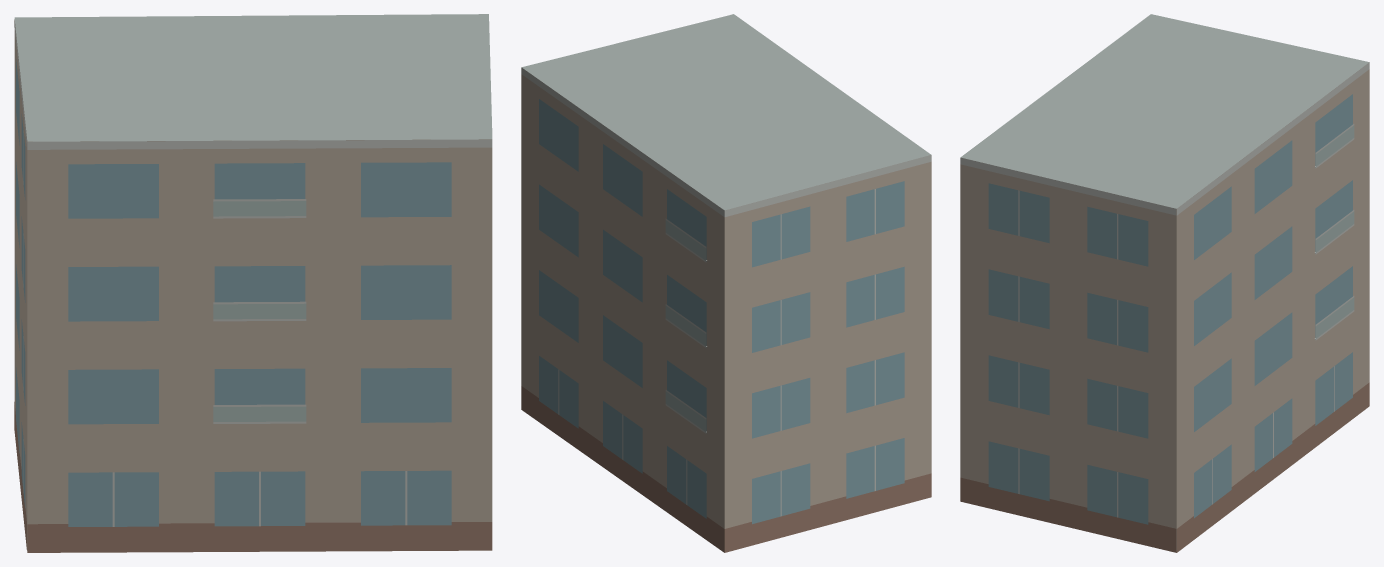
The model's file is survey-upis-32884030.glb.
3 views of the same model, side by side, from view 1: azimuth 30°, elevation 25°; view 2: azimuth 150°, elevation 25°; view 3: azimuth 270°, elevation 25° (orthographic). The views are drawn at different scales.
Parts seen in each view (by area): view 1: survey-upis-32884030.tmp; view 2: survey-upis-32884030.tmp; view 3: survey-upis-32884030.tmp.
Boxes of the visible parts, x1,y1,x2,y2 form: survey-upis-32884030.tmp: [14, 14, 492, 552]; survey-upis-32884030.tmp: [521, 14, 931, 552]; survey-upis-32884030.tmp: [960, 14, 1369, 552].
Size of the model in its own units: 14.82 by 12.2 by 13.16.
